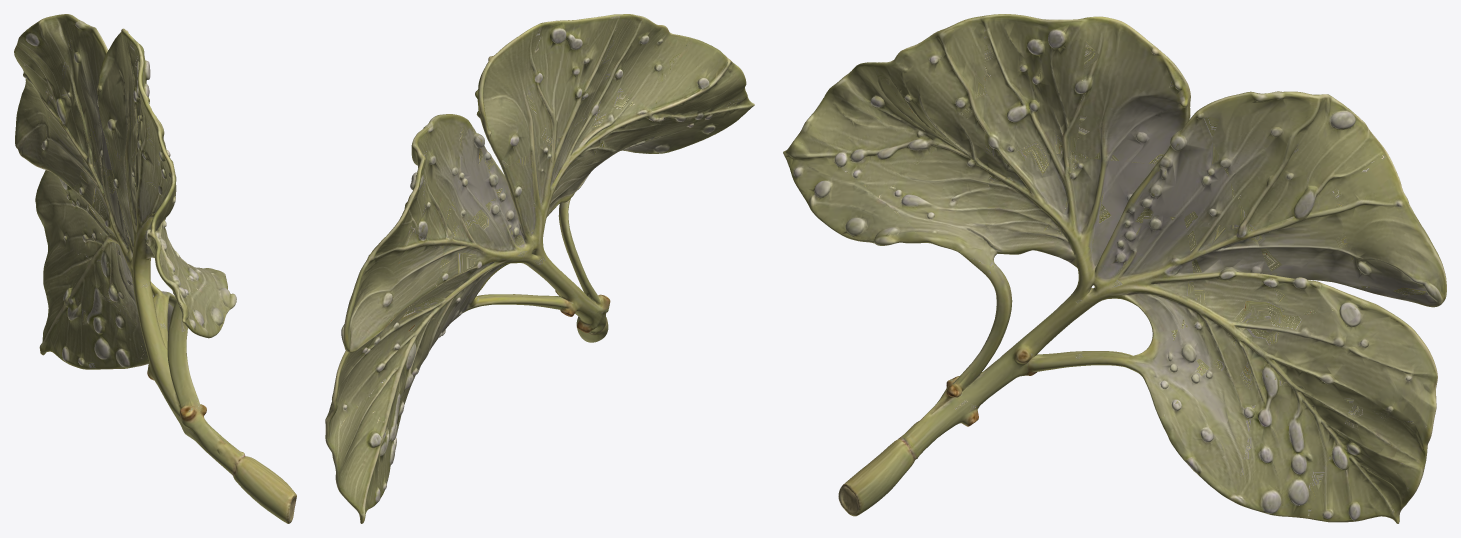
Rendered from leaf.glb.
3 views of the same model, side by side, from view 1: azimuth 30°, elevation 25°; view 2: azimuth 150°, elevation 25°; view 3: azimuth 270°, elevation 25° (orthographic). The views are drawn at different scales.
Visible parts, largest first — view 1: tripo_node_8ad4c61c-d15b-42c4-9e82-27844032304d; view 2: tripo_node_8ad4c61c-d15b-42c4-9e82-27844032304d; view 3: tripo_node_8ad4c61c-d15b-42c4-9e82-27844032304d.
Boxes of the visible parts, box(x1,y1,x2,y2) form: tripo_node_8ad4c61c-d15b-42c4-9e82-27844032304d: box(14, 14, 296, 523); tripo_node_8ad4c61c-d15b-42c4-9e82-27844032304d: box(325, 14, 754, 523); tripo_node_8ad4c61c-d15b-42c4-9e82-27844032304d: box(783, 14, 1446, 523).
Size of the model in its own units: 0.3561 by 0.7798 by 0.9744.
Materials: 1 (1 with a texture image).
